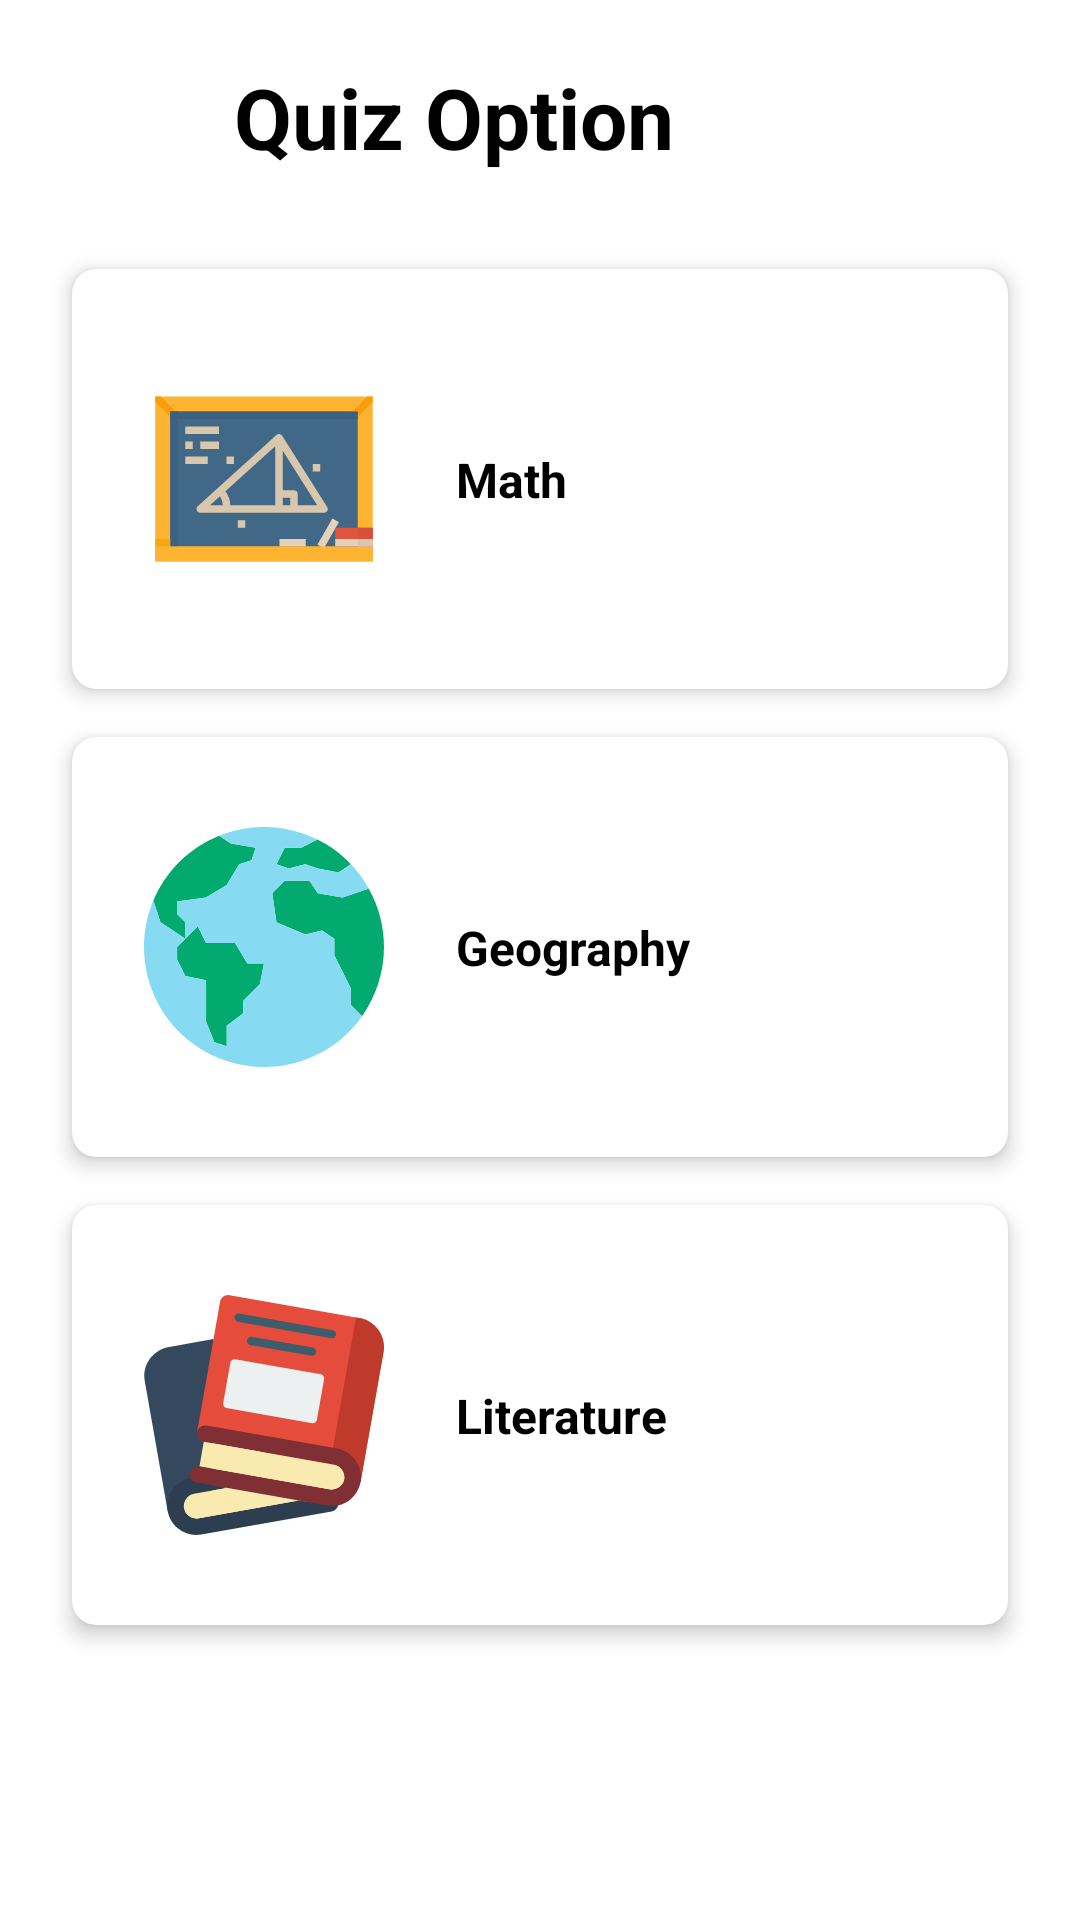

Icon click points for this 1080w x 1920h phone screenshot, format point (x, y):
blackboard: point (264, 479)
book: point (264, 1415)
worldwide: point (264, 947)
